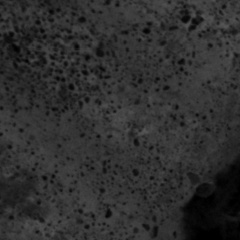Vegetation: (1, 1, 182, 240), (181, 1, 240, 160), (185, 162, 205, 188)
